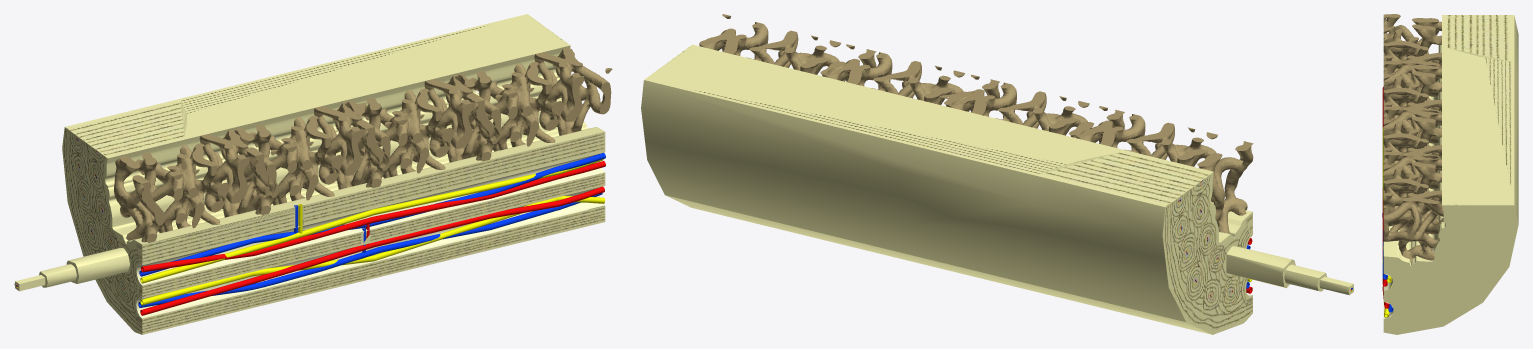
File: bone-marrow.glb
3 renders of one model, left to right at view 1: azimuth 30°, elevation 25°; view 2: azimuth 150°, elevation 25°; view 3: azimuth 270°, elevation 25°, orthographic. The views are drawn at different scales.
Parts seen in each view (by area): view 1: udambu; view 2: udambu; view 3: udambu.
Part boxes in pixels (x1,y1,x2,y2): udambu: (14,14,612,334); udambu: (641,14,1353,334); udambu: (1382,14,1518,334).
Bounding box in the file's own units: 0.6 × 0.153 × 0.1456.
8 materials, 2 textured.
